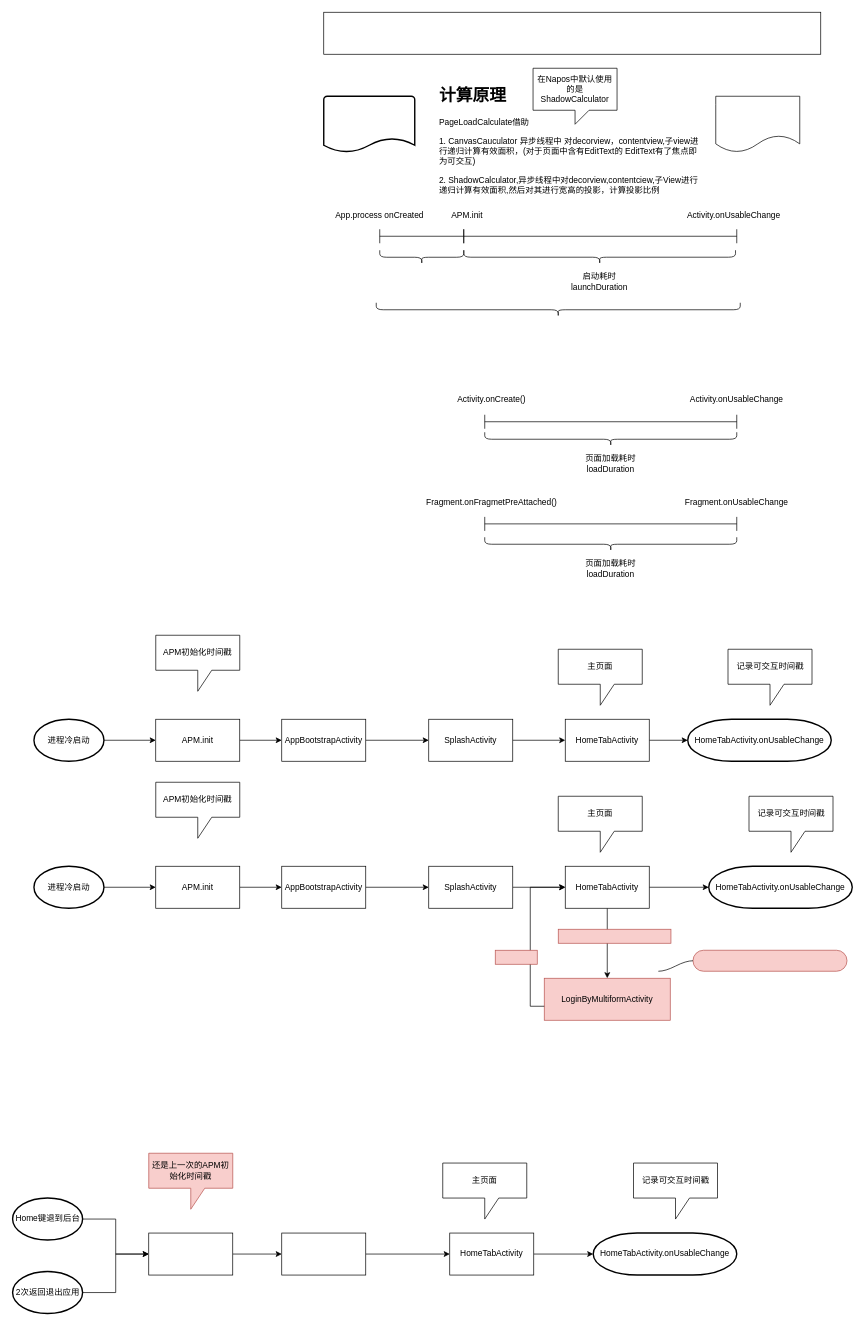
The diagram is 865 pixels wide and 1327 high, and some of its shapes have lost their labels. The shapes that lost their labels are listed below. From the top down, each one's centre as x and y in pixels, then its label:
At (x=572, y=33): "application_impl版本2.0.10.10".
At (x=369, y=124): "读取/proc/pid/stat文件的lastModified".
At (x=757, y=124): "白名单中目标页面达到可交互状态".
At (x=421, y=257): "系统初始化耗时 systemInitDuration".
At (x=558, y=309): "整体耗时 systemInitDuration+launchDuration".
At (x=614, y=936): "Session失效，kick out".
At (x=516, y=957): "Login".
At (x=769, y=960): "这部分的时间是脏数据来源的一种".
At (x=190, y=1253): "主进程还活着".
At (x=323, y=1253): "回到应用".
